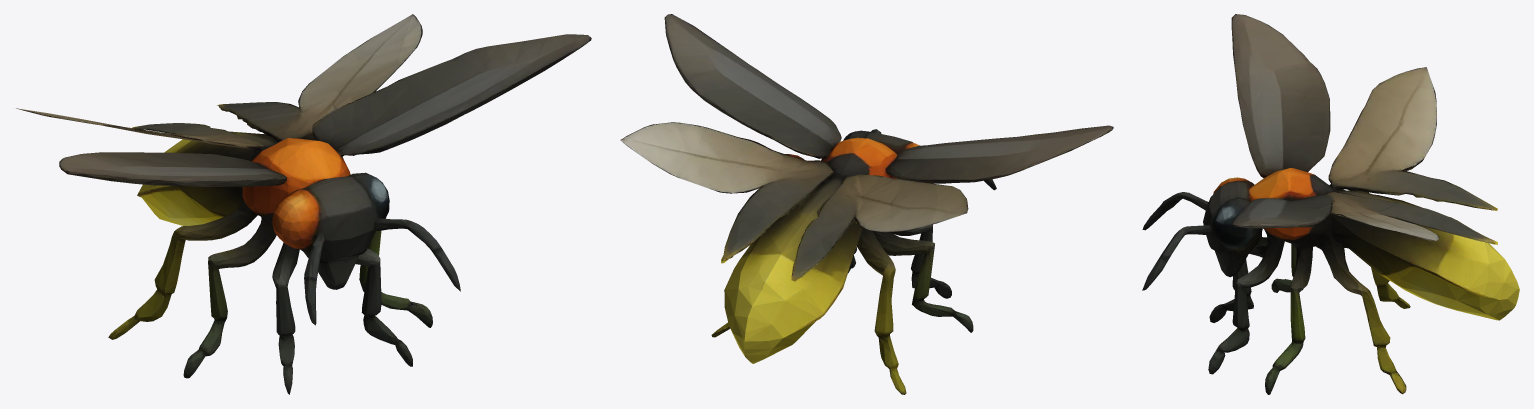
File: firefly.glb
3 renders of one model, left to right at view 1: azimuth 30°, elevation 25°; view 2: azimuth 150°, elevation 25°; view 3: azimuth 270°, elevation 25°, orthographic. The views are drawn at different scales.
Visible parts, largest first — view 1: world; view 2: world; view 3: world.
Part boxes in pixels (<box>): world: <box>16,14,591,394</box>; world: <box>620,14,1113,394</box>; world: <box>1142,14,1519,394</box>.
Bounding box in the file's own units: 0.9995 × 0.5146 × 0.7358.
1 material, 1 textured.
